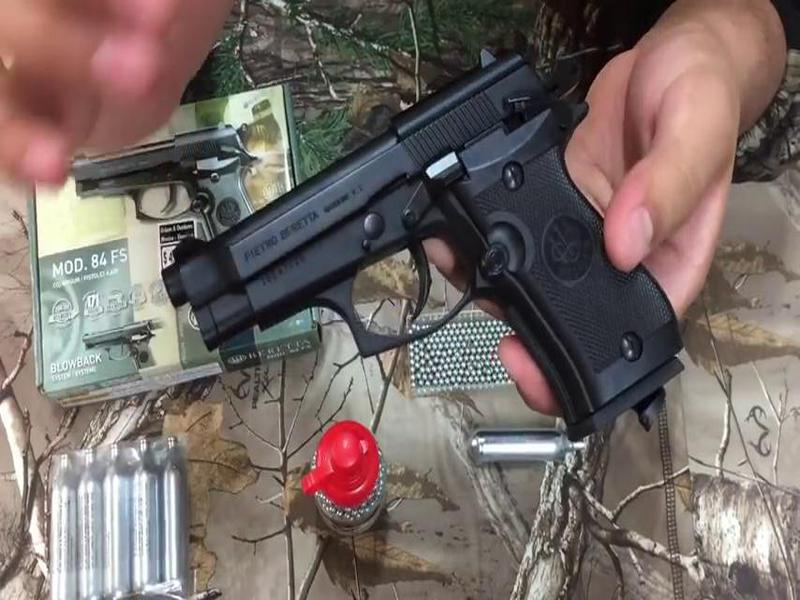Pistola: (182, 54, 692, 442)
